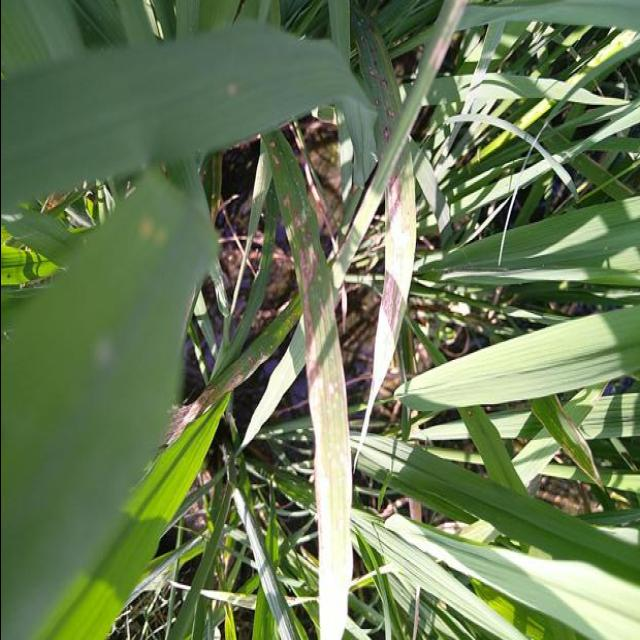Leaf Streak: (267, 132, 351, 640), (357, 150, 415, 454), (163, 306, 287, 447), (529, 394, 602, 490), (350, 8, 399, 145), (430, 0, 466, 77)
